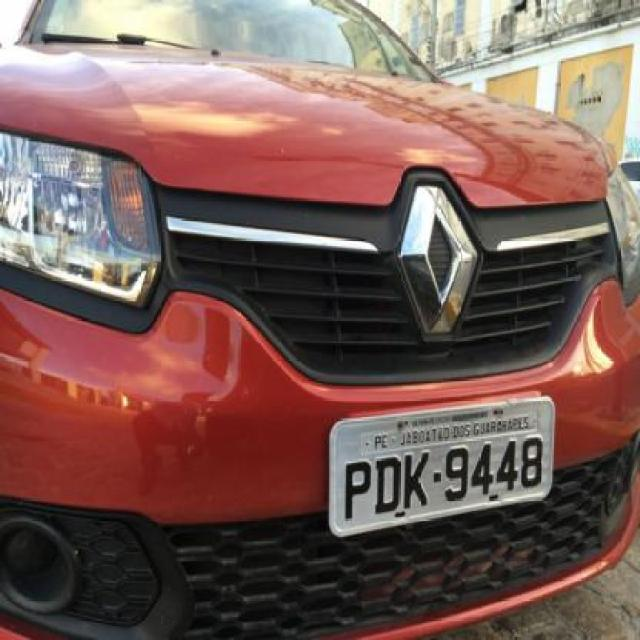old_plate: (319, 391, 563, 549)
